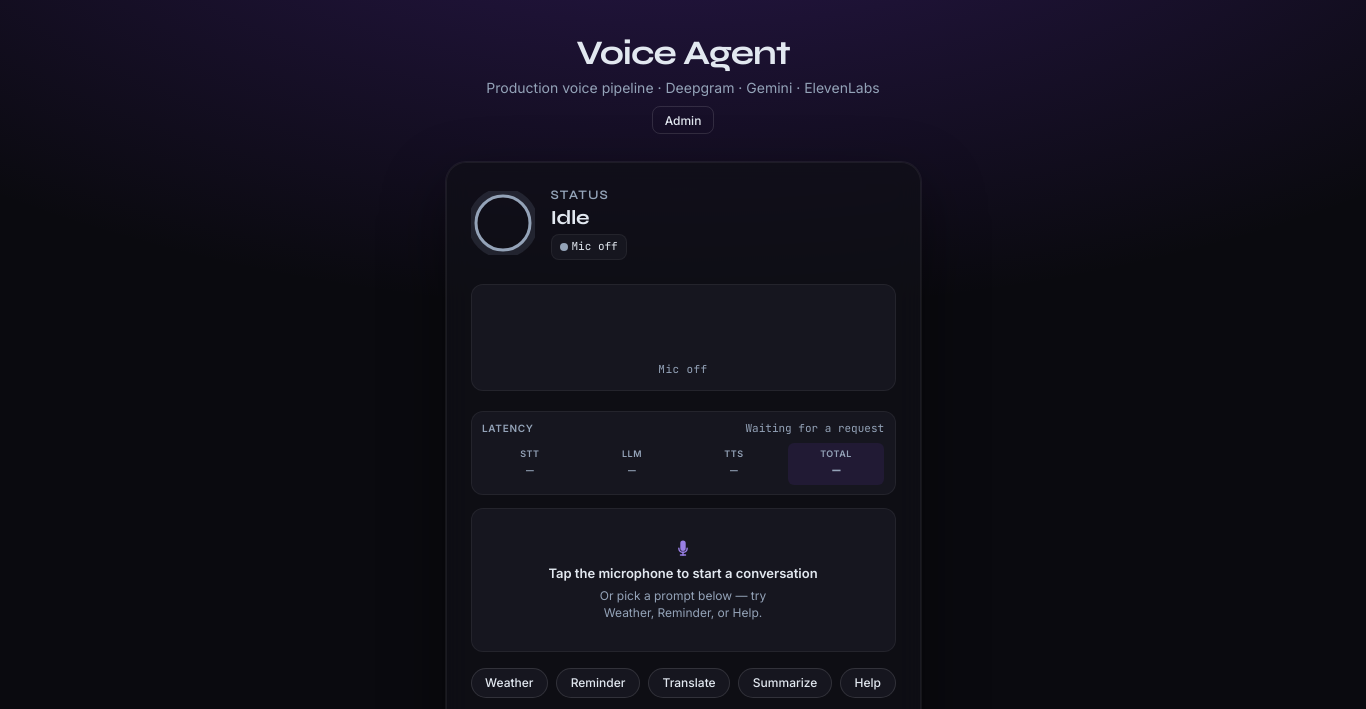
Test: Empty-state prompt chip loop prevention › clicking Weather chip once results in exactly ONE user bubble, ONE agent bubble, and no duplicate WS frames during a 2s wait
Click the button "Weather": (509, 683) [470, 668, 548, 698]
Wait 2000 ms
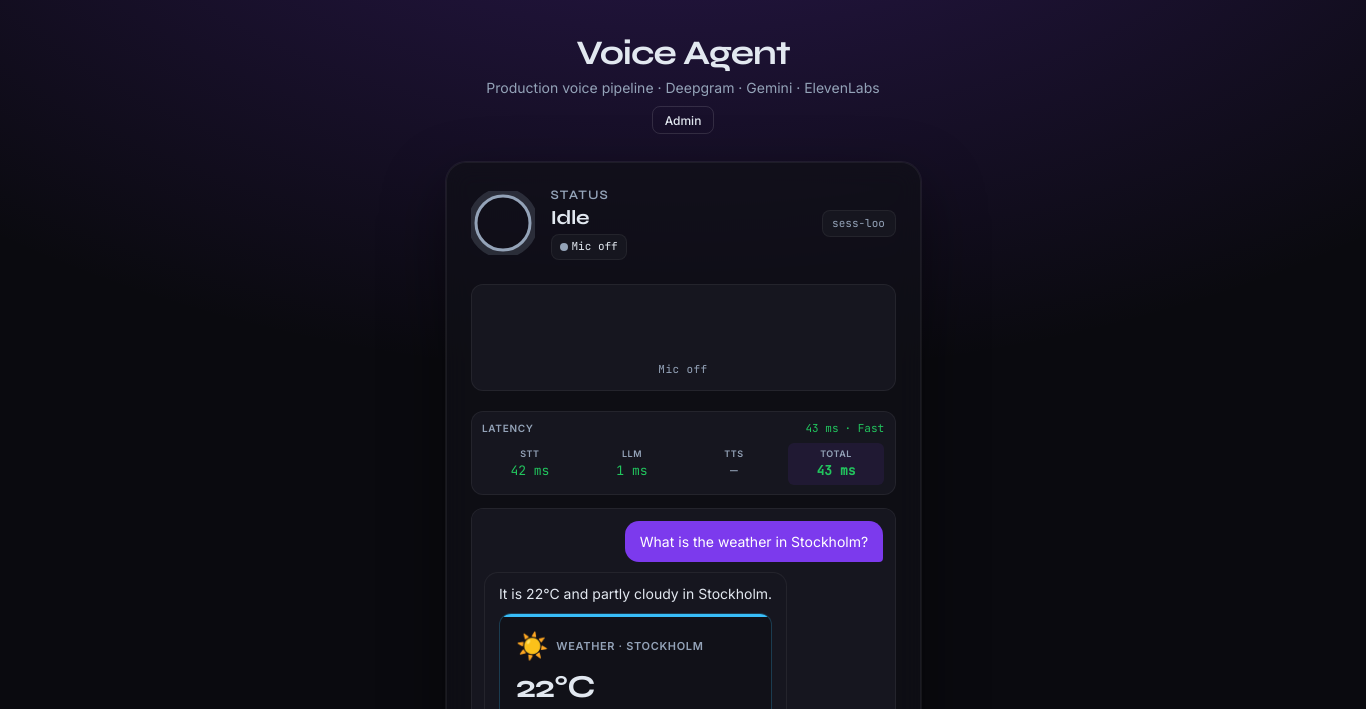
expect the text "What is the weather in Stockholm?" is shown once: met, box [640, 532, 868, 552]
expect the text "It is 22°C and partly cloudy in Stockholm." is shown once: met, box [499, 584, 772, 605]
